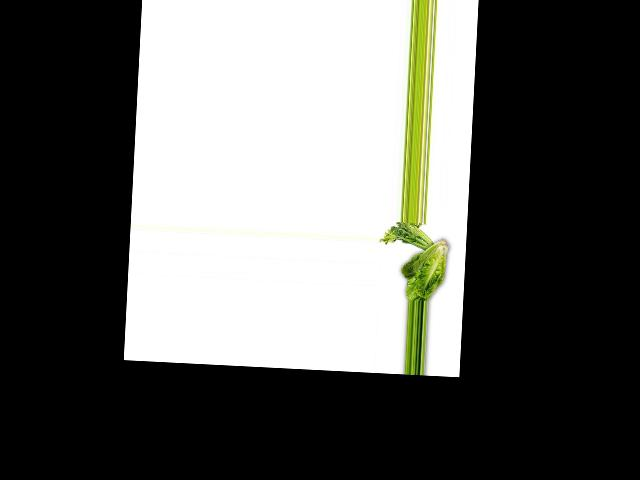lettuce: (394, 234, 447, 302)
